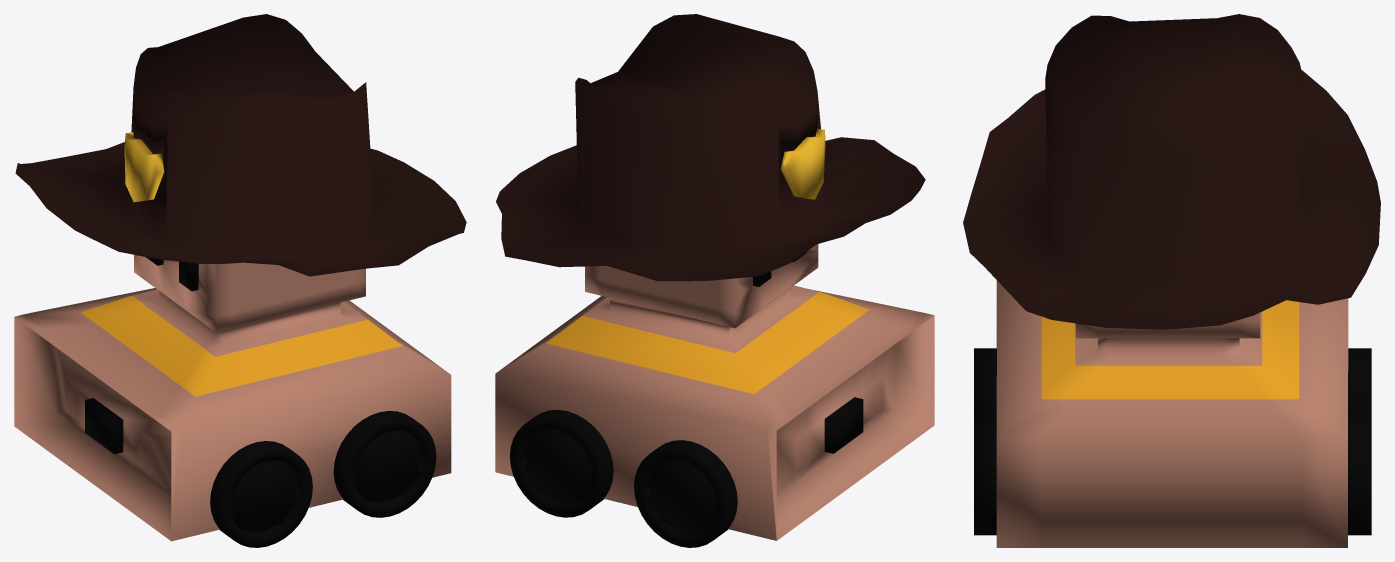
Rendered from RoboRanger-v1.glb.
3 renders of one model, left to right at view 1: azimuth 30°, elevation 25°; view 2: azimuth 150°, elevation 25°; view 3: azimuth 270°, elevation 25°, orthographic. The views are drawn at different scales.
Visible parts, largest first — view 1: Cube, Cylinder.005, Cylinder, Cylinder.001; view 2: Cube, Cylinder.005, Cylinder.002, Cylinder.003; view 3: Cylinder.005, Cube, Cylinder.002, Cylinder.001, Cylinder.003, Cylinder.
Part boxes in pixels (x1,y1,x2,y2): Cube: [14, 255, 451, 541]; Cylinder.005: [15, 14, 466, 276]; Cylinder: [210, 441, 312, 547]; Cylinder.001: [333, 411, 436, 517]; Cube: [495, 244, 934, 540]; Cylinder.005: [496, 14, 925, 281]; Cylinder.002: [509, 410, 613, 517]; Cylinder.003: [634, 440, 737, 547]; Cylinder.005: [963, 14, 1380, 329]; Cube: [996, 280, 1348, 547]; Cylinder.002: [1348, 416, 1371, 535]; Cylinder.001: [974, 416, 996, 535]; Cylinder.003: [1348, 348, 1371, 415]; Cylinder: [974, 348, 996, 415].
Size of the model in its own units: 4.52 by 4.57 by 3.87.
